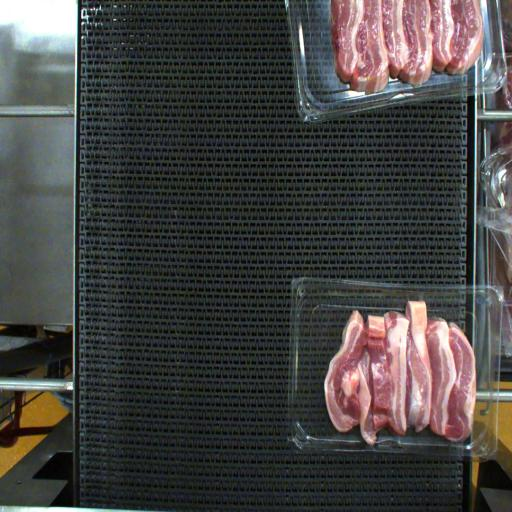twisted-meat: (399, 302, 436, 416), (362, 314, 384, 442)
